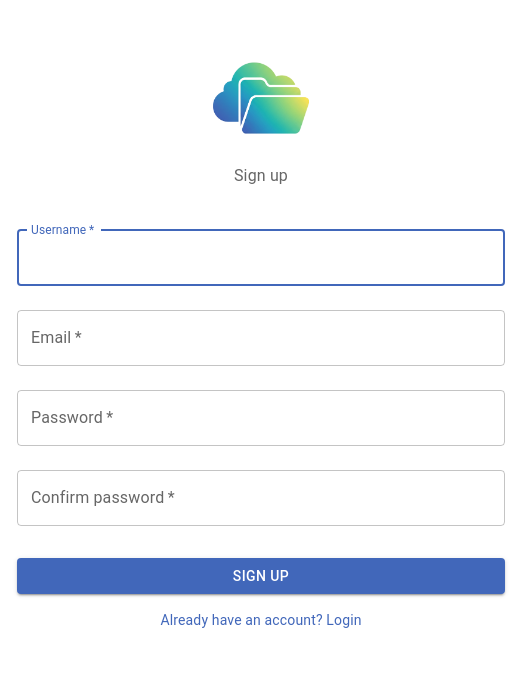
Test case: Register › successful register with pending shows success message
This screenshot has width=523, height=691.
Type "newuser" into the field labelled "Username *" at (261, 258), box x1=17 y1=230 x2=505 y2=286
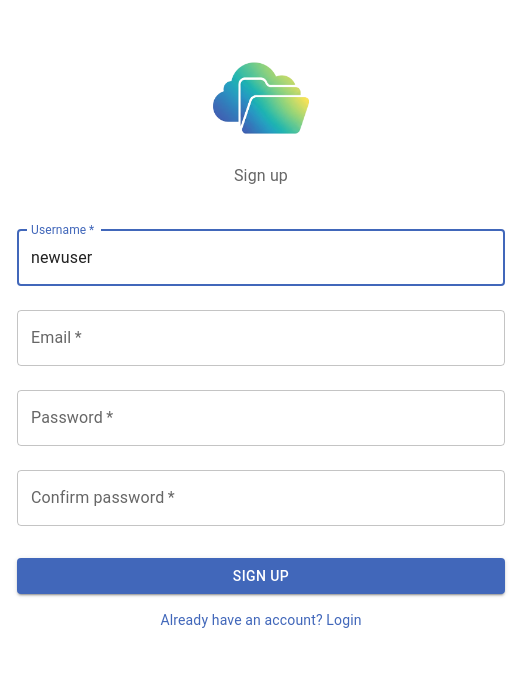
Type "new@example.com" into the field labelled "Email *" at (261, 338), box x1=17 y1=310 x2=505 y2=366
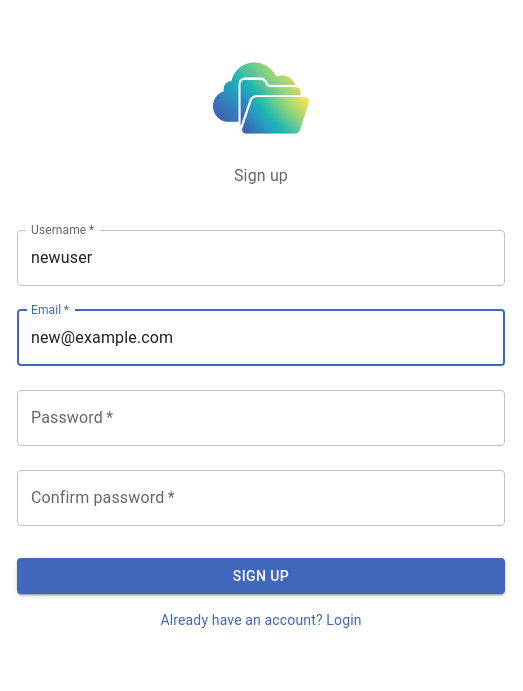
Type "ValidPass123!" into the password field labelled "Password *" at (261, 418), box x1=17 y1=390 x2=505 y2=446
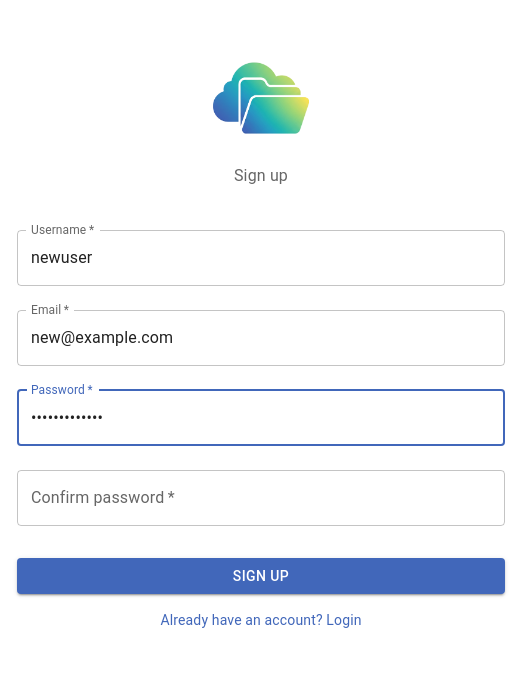
Type "ValidPass123!" into the password field labelled "Confirm password *" at (261, 498), box x1=17 y1=470 x2=505 y2=526
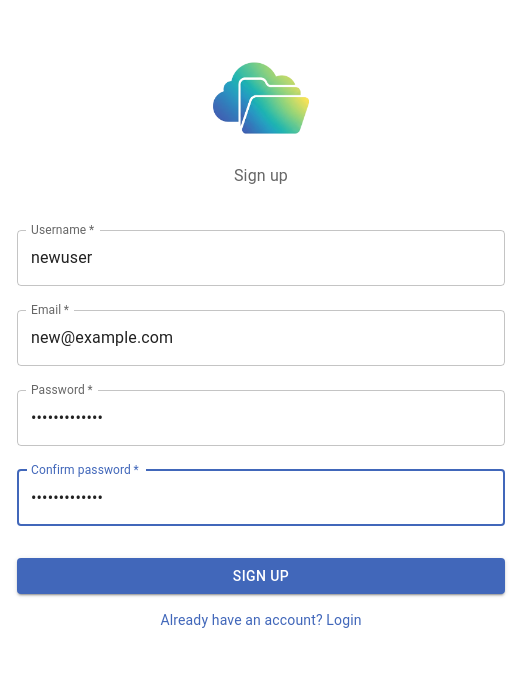
Click the button "Sign up" at (261, 576), box x1=17 y1=558 x2=505 y2=594
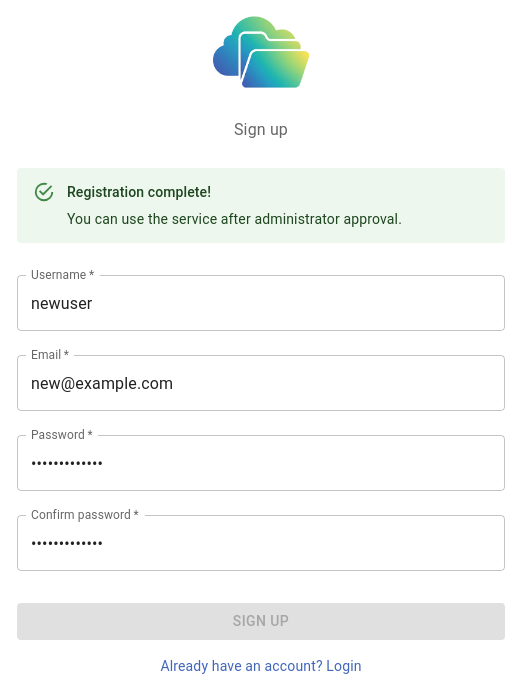
Expected: the message reads "Registration complete! You can use the service after administrator approval.", x1=67 y1=184 x2=211 y2=200
